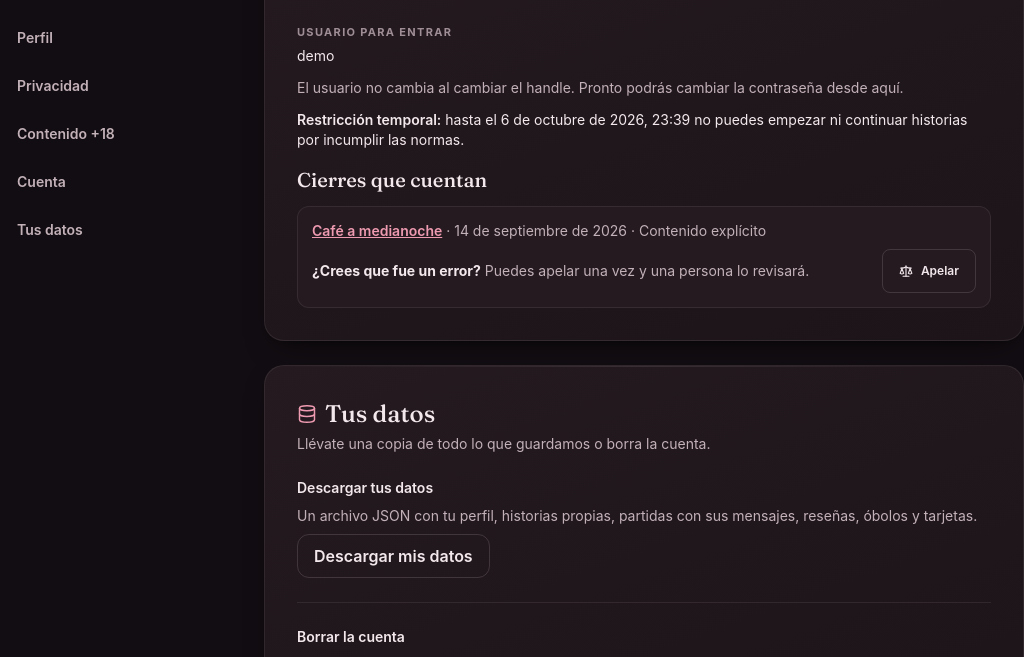
Test case: Apelación de la persona usuaria › con la cuenta restringida, Configuración lista los cierres que cuentan con su apelación
(page scrolled)
Check: the text "· 14 de septiembre de 2026 · Contenido explícito" is shown, box [442,222,766,239]
Step 1. Click the button "Apelar" → (929, 271), box [882,249,976,293]
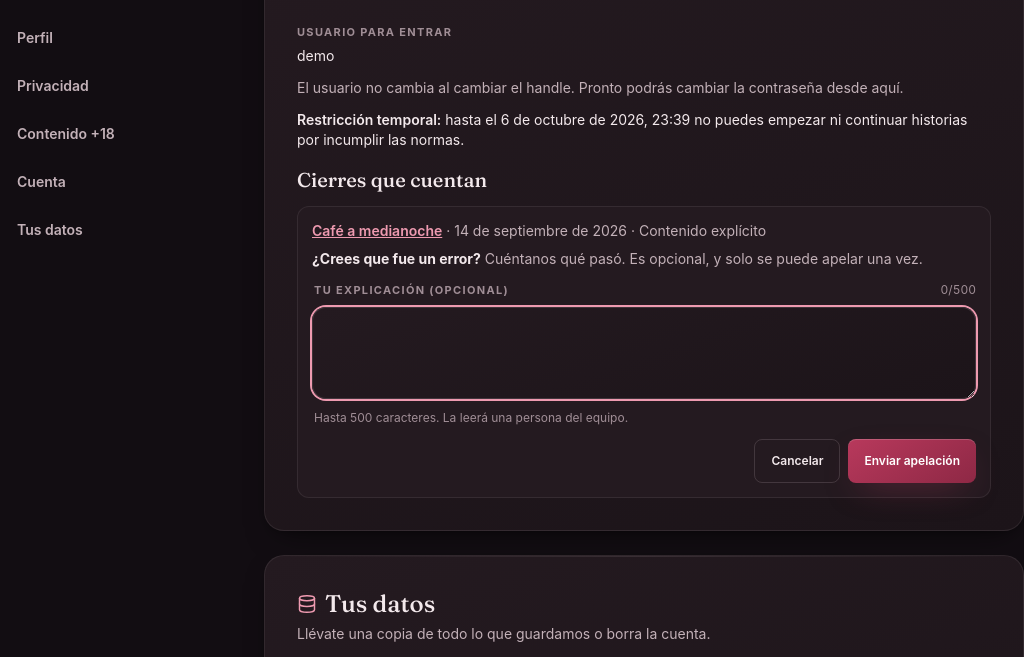
Step 2. Click the button "Enviar apelación" → (912, 461), box [848,439,976,483]
(page scrolled)
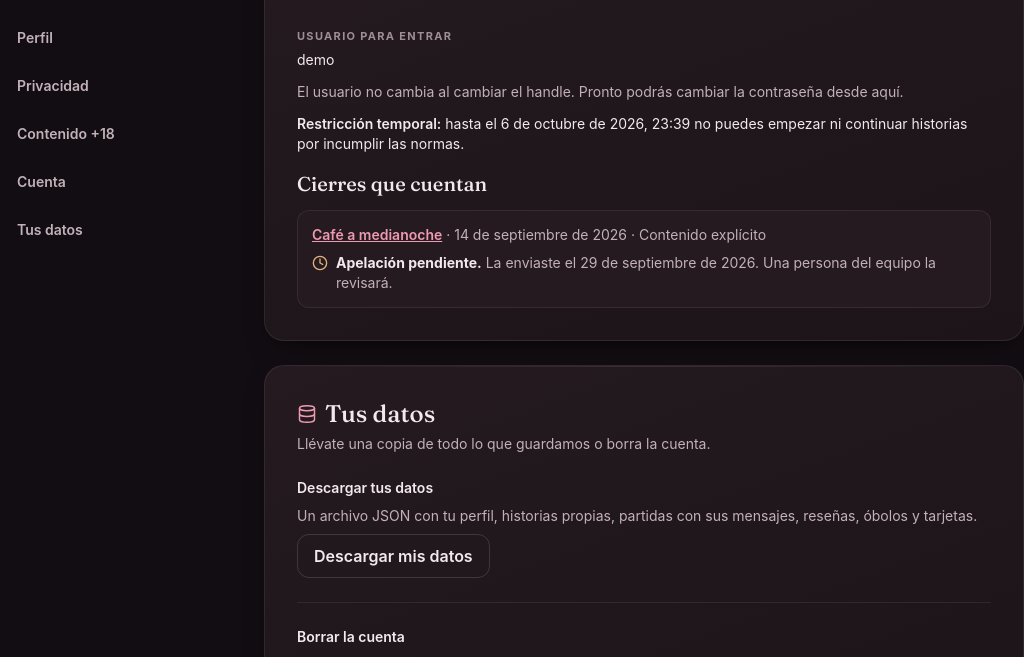
Check: the text "Apelación pendiente." is shown, box [336,254,482,271]
